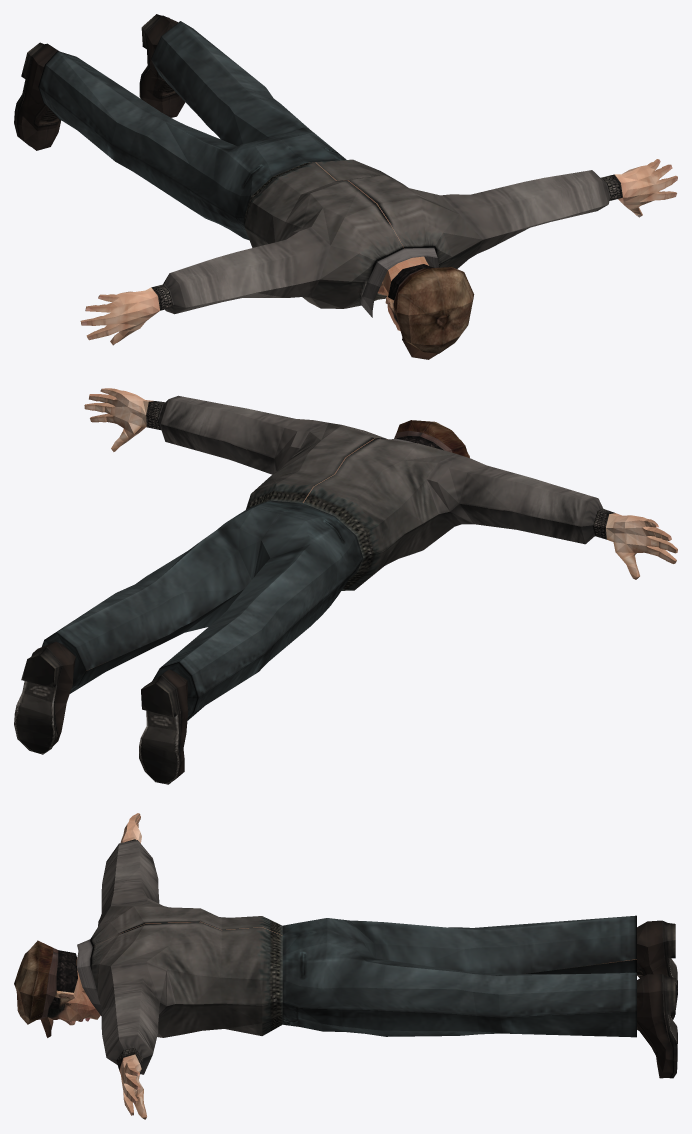
The model's file is thug_mustafa_wtf.obj.
3 renders of one model, top to bottom at view 1: azimuth 30°, elevation 25°; view 2: azimuth 150°, elevation 25°; view 3: azimuth 270°, elevation 25°, orthographic. The views are drawn at different scales.
Visible parts, largest first — view 1: group1; view 2: group1; view 3: group1.
Part boxes in pixels (bbox=[...]): group1: bbox=[14, 14, 677, 359]; group1: bbox=[14, 388, 677, 784]; group1: bbox=[14, 813, 677, 1119].
Bounding box in the file's own units: 652 × 137 × 660.
